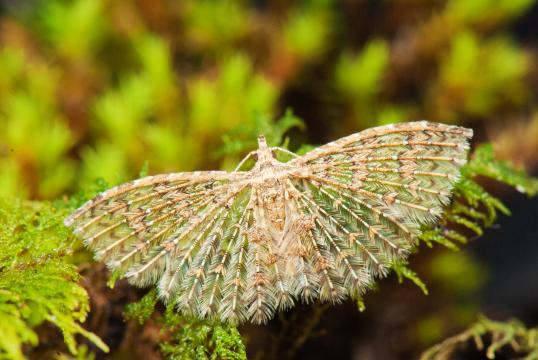Alucitidae: (70, 120, 489, 341)
moth: (68, 118, 487, 339)
